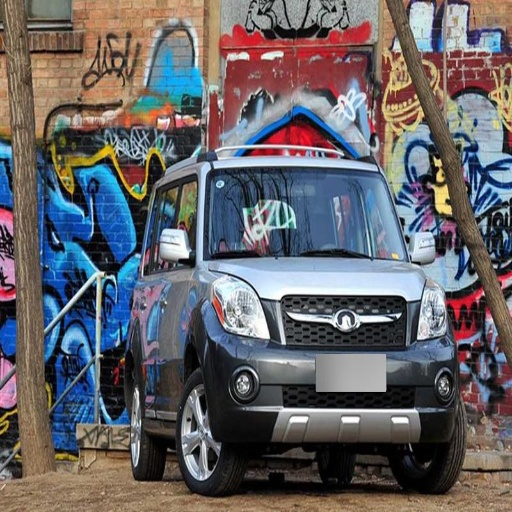front_bumper: (207, 298, 460, 451)
front_left_light: (412, 286, 452, 341)
front_right_door: (162, 176, 198, 261)
front_right_light: (211, 273, 272, 338)
hood: (220, 260, 426, 299)
